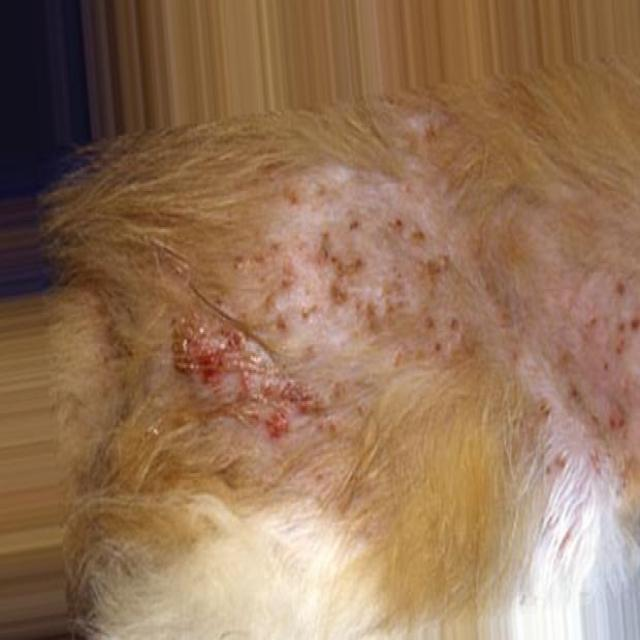di ung bo chet: (129, 195, 640, 535)
